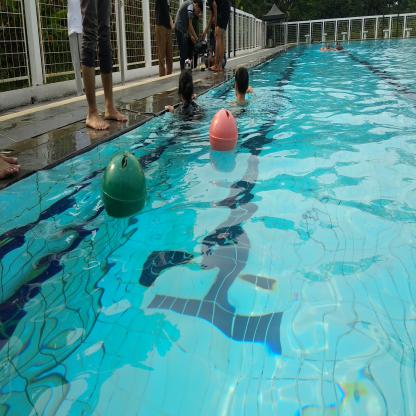green_buoy: (98, 144, 155, 231)
red_buoy: (205, 100, 244, 166)
